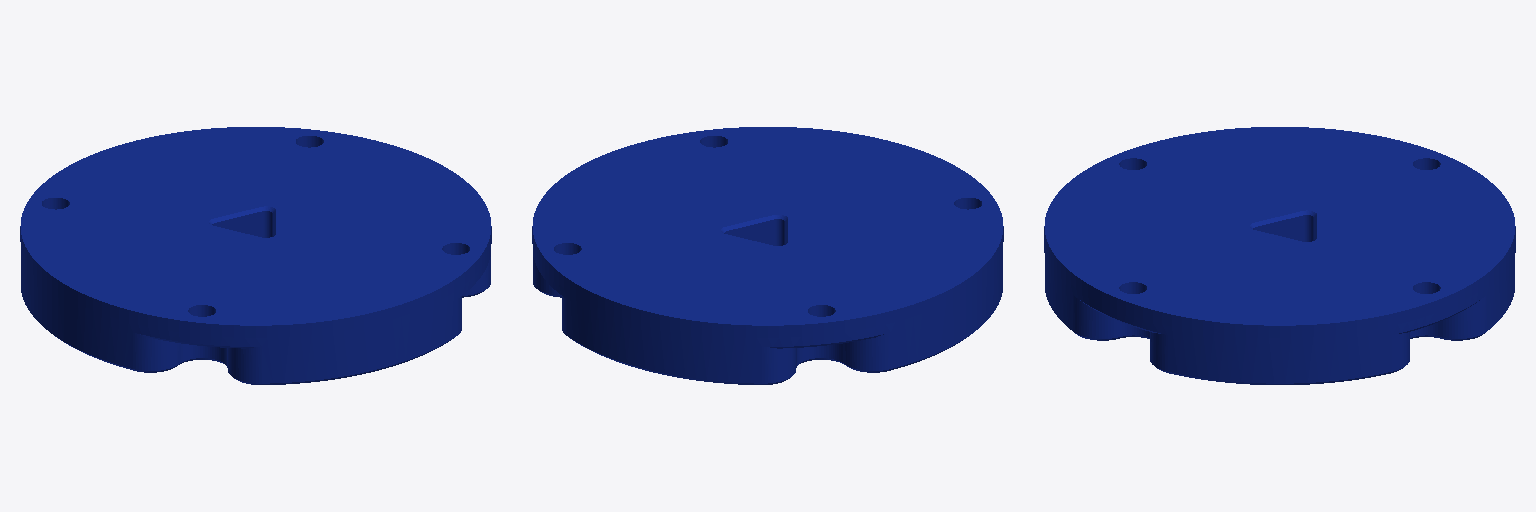
The robot description file, URDF, robot "crs_adapter":
<?xml version="1.0"?>
<!-- crs_adapter: standalone static model from CRS_adapter.step.
     Mesh in millimetres (scale 0.001). Link origin = STEP-file origin, unchanged.
     Mass/inertia assume density 2.70 g/cm^3 -> 94.7 g (material not given in the STEP). -->
<robot name="crs_adapter">
  <material name="crs_adapter_color"><color rgba="0.12 0.22 0.60 1.0"/></material>
  <link name="crs_adapter_link">
    <visual>
      <geometry><mesh filename="meshes/crs_adapter.stl" scale="0.001 0.001 0.001"/></geometry>
      <material name="crs_adapter_color"/>
    </visual>
    <collision>
      <geometry><mesh filename="meshes/crs_adapter.stl" scale="0.001 0.001 0.001"/></geometry>
    </collision>
    <inertial>
      <origin xyz="0.000000 -0.000027 -0.002882" rpy="0 0 0"/>
      <mass value="0.09474"/>
      <inertia ixx="2.9580e-05" ixy="-3.8781e-16" ixz="-2.1513e-15" iyy="2.9974e-05" iyz="-3.0108e-10" izz="5.7955e-05"/>
    </inertial>
  </link>
</robot>

--- Facts derived from the render (not from the file) ---
3 views of the same robot in one strip: view 1: azimuth 30°, elevation 25°; view 2: azimuth 150°, elevation 25°; view 3: azimuth 270°, elevation 25° (orthographic).
Robot: crs_adapter — 1 links, 0 joints (none); root link crs_adapter_link; default pose: every joint at zero.
Visible links, largest first — view 1: crs_adapter_link; view 2: crs_adapter_link; view 3: crs_adapter_link.
Link boxes in pixels (<box>): crs_adapter_link: <box>20,127,491,384</box>; crs_adapter_link: <box>532,127,1003,384</box>; crs_adapter_link: <box>1044,127,1515,384</box>.
Size in the robot's own frame: 0.07 by 0.07 by 0.01 metres.
1 mesh visuals loaded from 1 distinct referenced files (1 binary STL).
